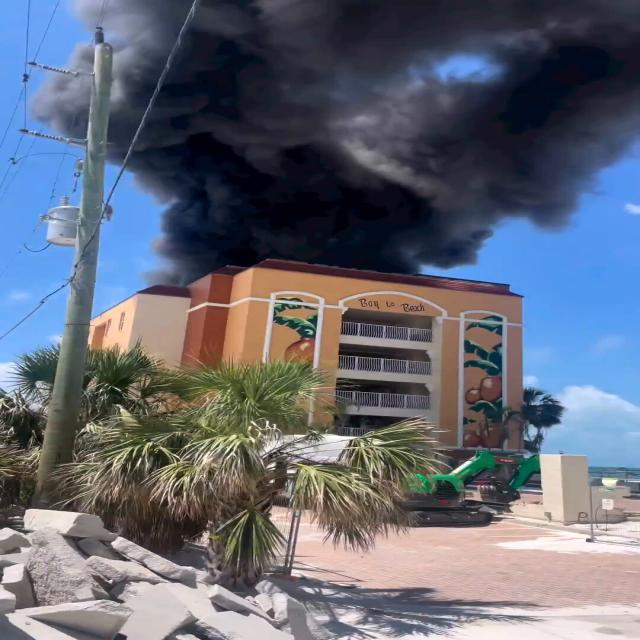Smoke: (130, 7, 561, 252)
